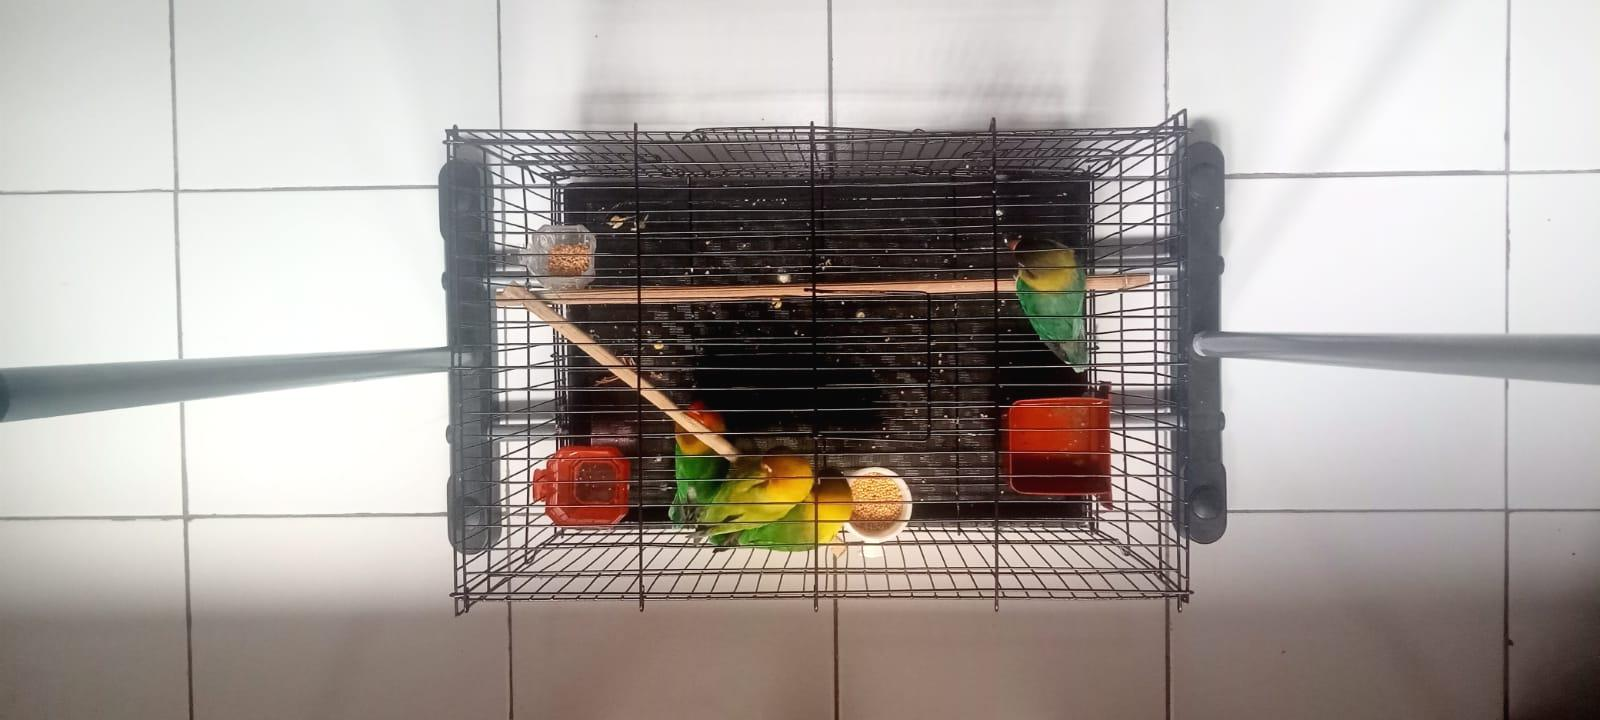LoveBird: (694, 446, 814, 548), (714, 468, 854, 552), (1005, 236, 1088, 371), (667, 400, 726, 525)
